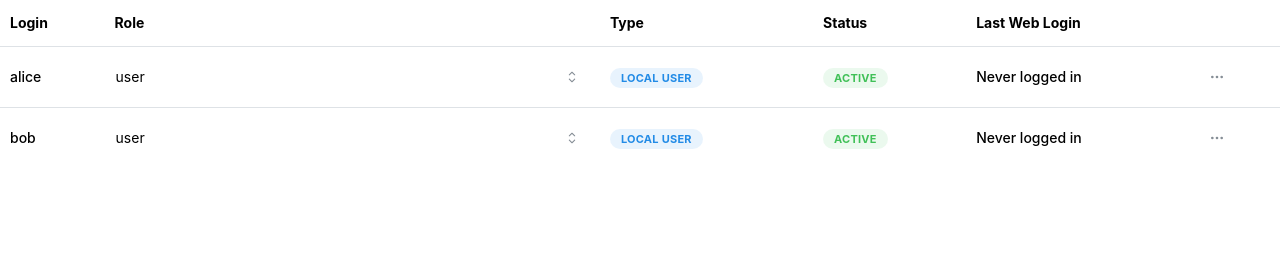
Test: ListUsers › update user › shows the error when suspending fails
The width and height of the screenshot is (1280, 273).
Click the button without text in the row of "alice".
click(1217, 77)  # box [1203,63,1231,91]
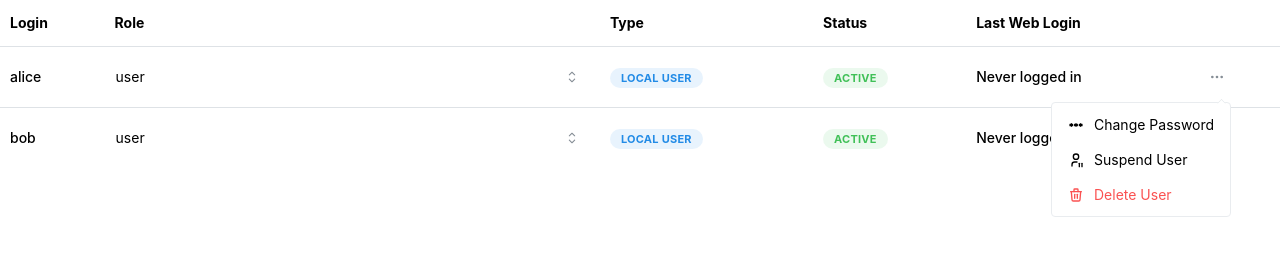
Click the menu item "Suspend User".
click(1141, 160)  # box [1056,142,1226,177]
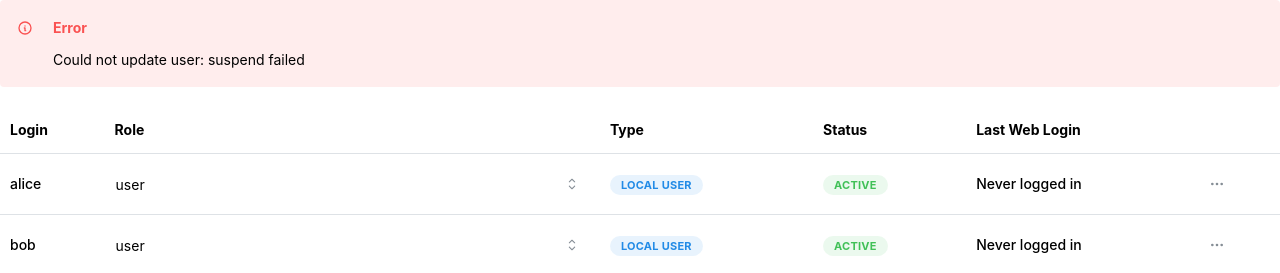
Result: the text "Could not update user: suspend failed" is shown at [53,51,305,68]
